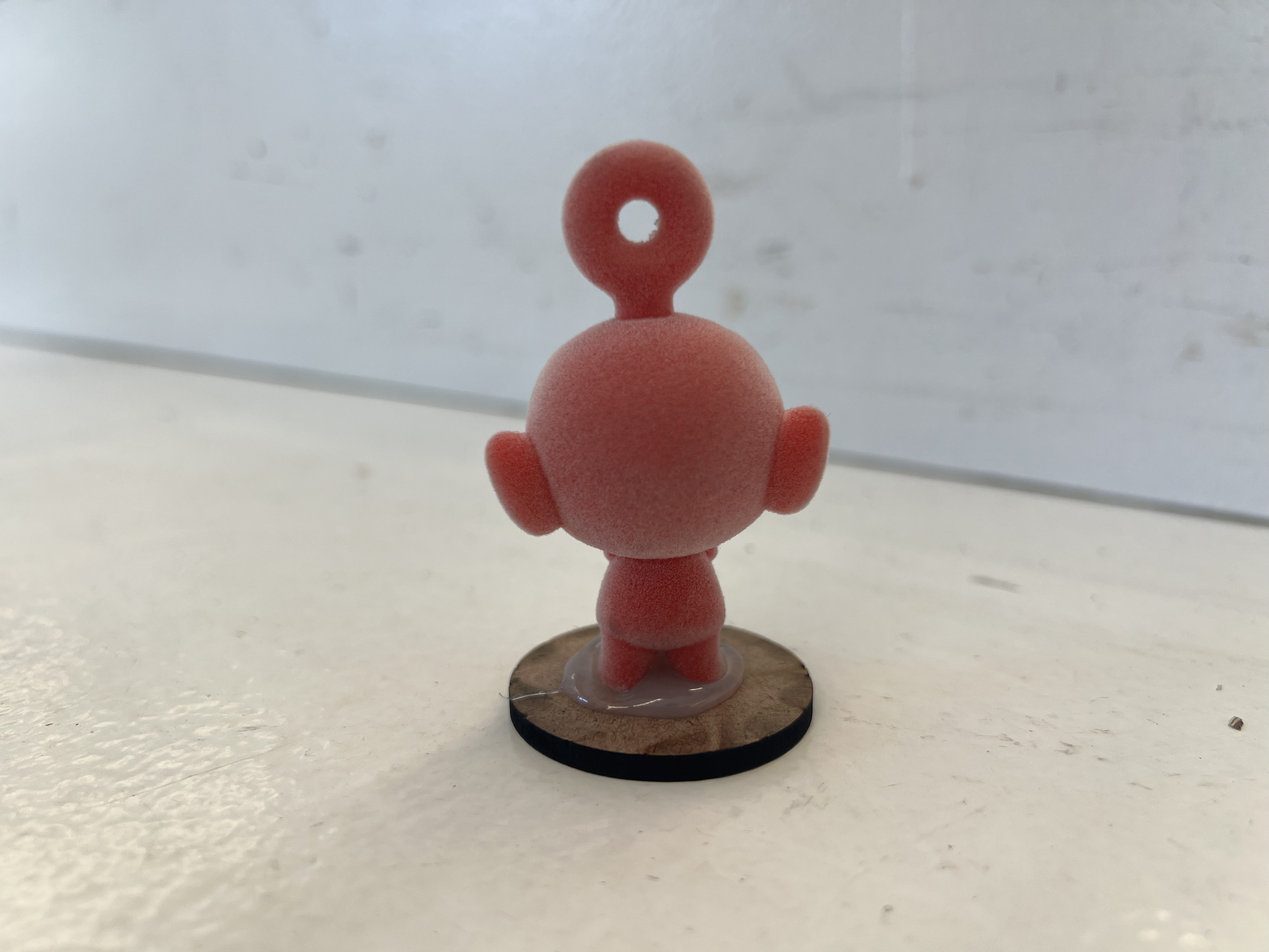teletubby: (486, 142, 828, 688)
